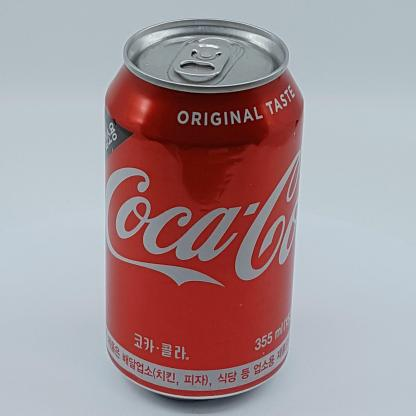alumunium_can: (88, 17, 314, 415)
